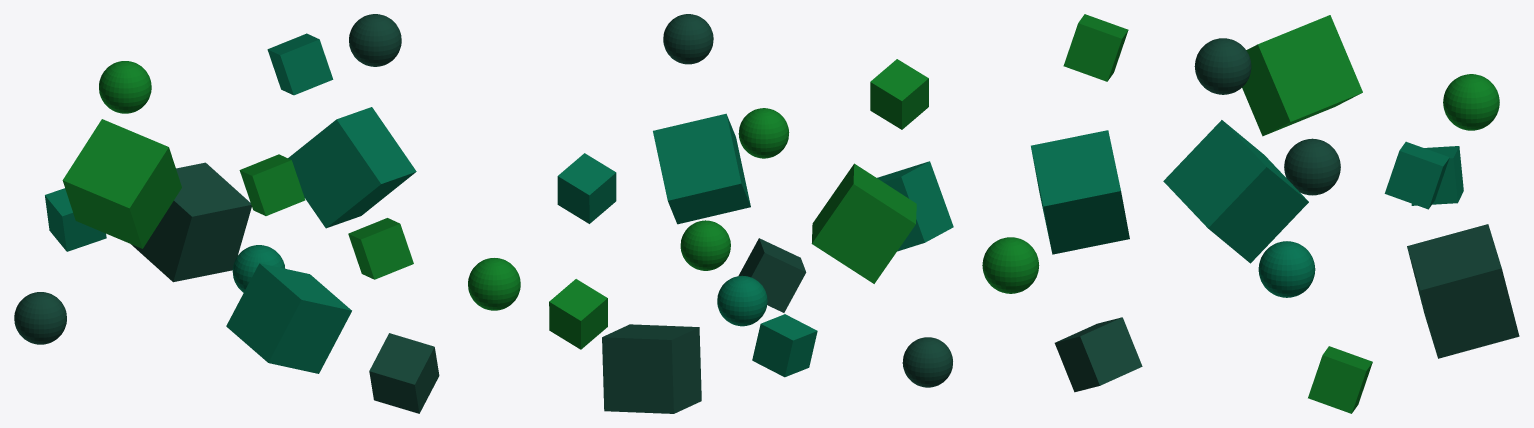
File: boxes2.glb
3 views of the same model, side by side, from view 1: azimuth 30°, elevation 25°; view 2: azimuth 150°, elevation 25°; view 3: azimuth 270°, elevation 25° (orthographic). The views are drawn at different scales.
Visible parts, largest first — view 1: Cube.005, Cube.001, Cube.004, Cube.002, Cube.003, Cube.008, Cube.006, Cube.007, Sphere.004, Sphere, Sphere.001, Sphere.003 (+2 smaller); view 2: Cube.002, Cube.001, Cube.005, Cube.004, Cube.008, Cube.006, Cube.007, Cube, Cube.003, Sphere.002, Sphere.003, Sphere.001 (+2 smaller); view 3: Cube.001, Cube.002, Cube.005, Cube.004, Cube.003, Cube.006, Cube.008, Cube.007, Sphere.004, Sphere.001, Sphere.003, Sphere.002 (+2 smaller).
Boxes of the visible parts, x1,y1,x2,y2 form: Cube.005: (62, 119, 181, 248); Cube.001: (288, 107, 416, 228); Cube.004: (226, 263, 351, 373); Cube.002: (131, 162, 251, 282); Cube.003: (369, 333, 439, 413); Cube.008: (267, 33, 333, 95); Cube.006: (239, 154, 305, 215); Cube.007: (348, 218, 413, 279); Sphere.004: (99, 61, 151, 113); Sphere: (14, 292, 66, 344); Sphere.001: (468, 258, 520, 310); Sphere.003: (349, 14, 401, 66); Cube.002: (602, 324, 701, 413); Cube.001: (653, 113, 750, 224); Cube.005: (811, 163, 916, 283); Cube.004: (877, 161, 953, 251); Cube.008: (557, 153, 616, 223); Cube.006: (870, 59, 928, 129); Cube.007: (549, 279, 607, 349); Cube: (752, 314, 817, 377); Cube.003: (738, 238, 806, 312); Sphere.002: (717, 275, 767, 326); Sphere.003: (663, 14, 713, 64); Sphere.001: (738, 108, 789, 158); Cube.001: (1163, 120, 1308, 263); Cube.002: (1407, 224, 1519, 358); Cube.005: (1242, 15, 1362, 136); Cube.004: (1031, 130, 1129, 254); Cube.003: (1054, 317, 1142, 392); Cube.006: (1063, 14, 1128, 81); Cube.008: (1384, 141, 1449, 209); Cube.007: (1308, 346, 1372, 413); Sphere.004: (1443, 74, 1499, 130); Sphere.001: (982, 237, 1039, 293); Sphere.003: (1194, 38, 1251, 94); Sphere.002: (1258, 241, 1315, 297).
Size of the model in its own units: 103 by 83.09 by 111.
